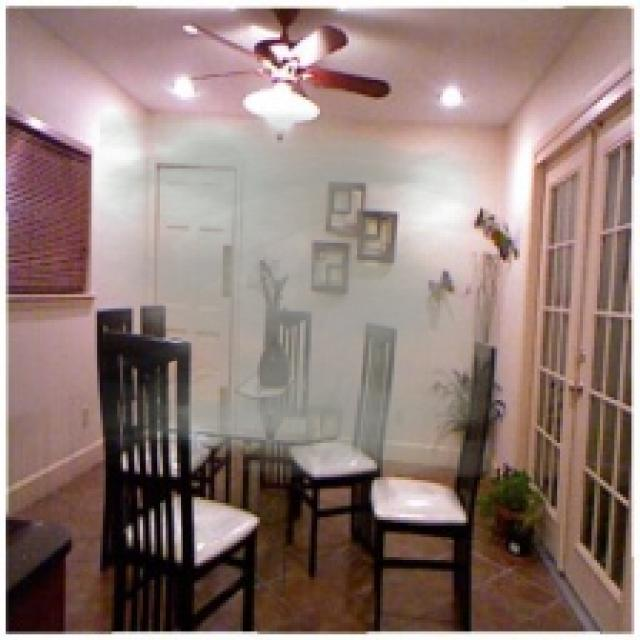smoke: (92, 112, 497, 477)
